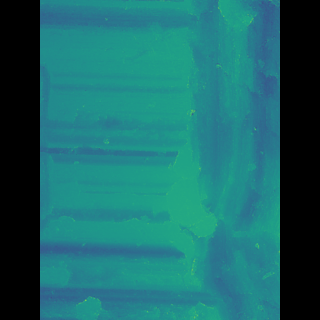Loch: (160, 0, 251, 320), (70, 214, 189, 270), (69, 37, 98, 245), (69, 256, 94, 290), (97, 294, 116, 320)
